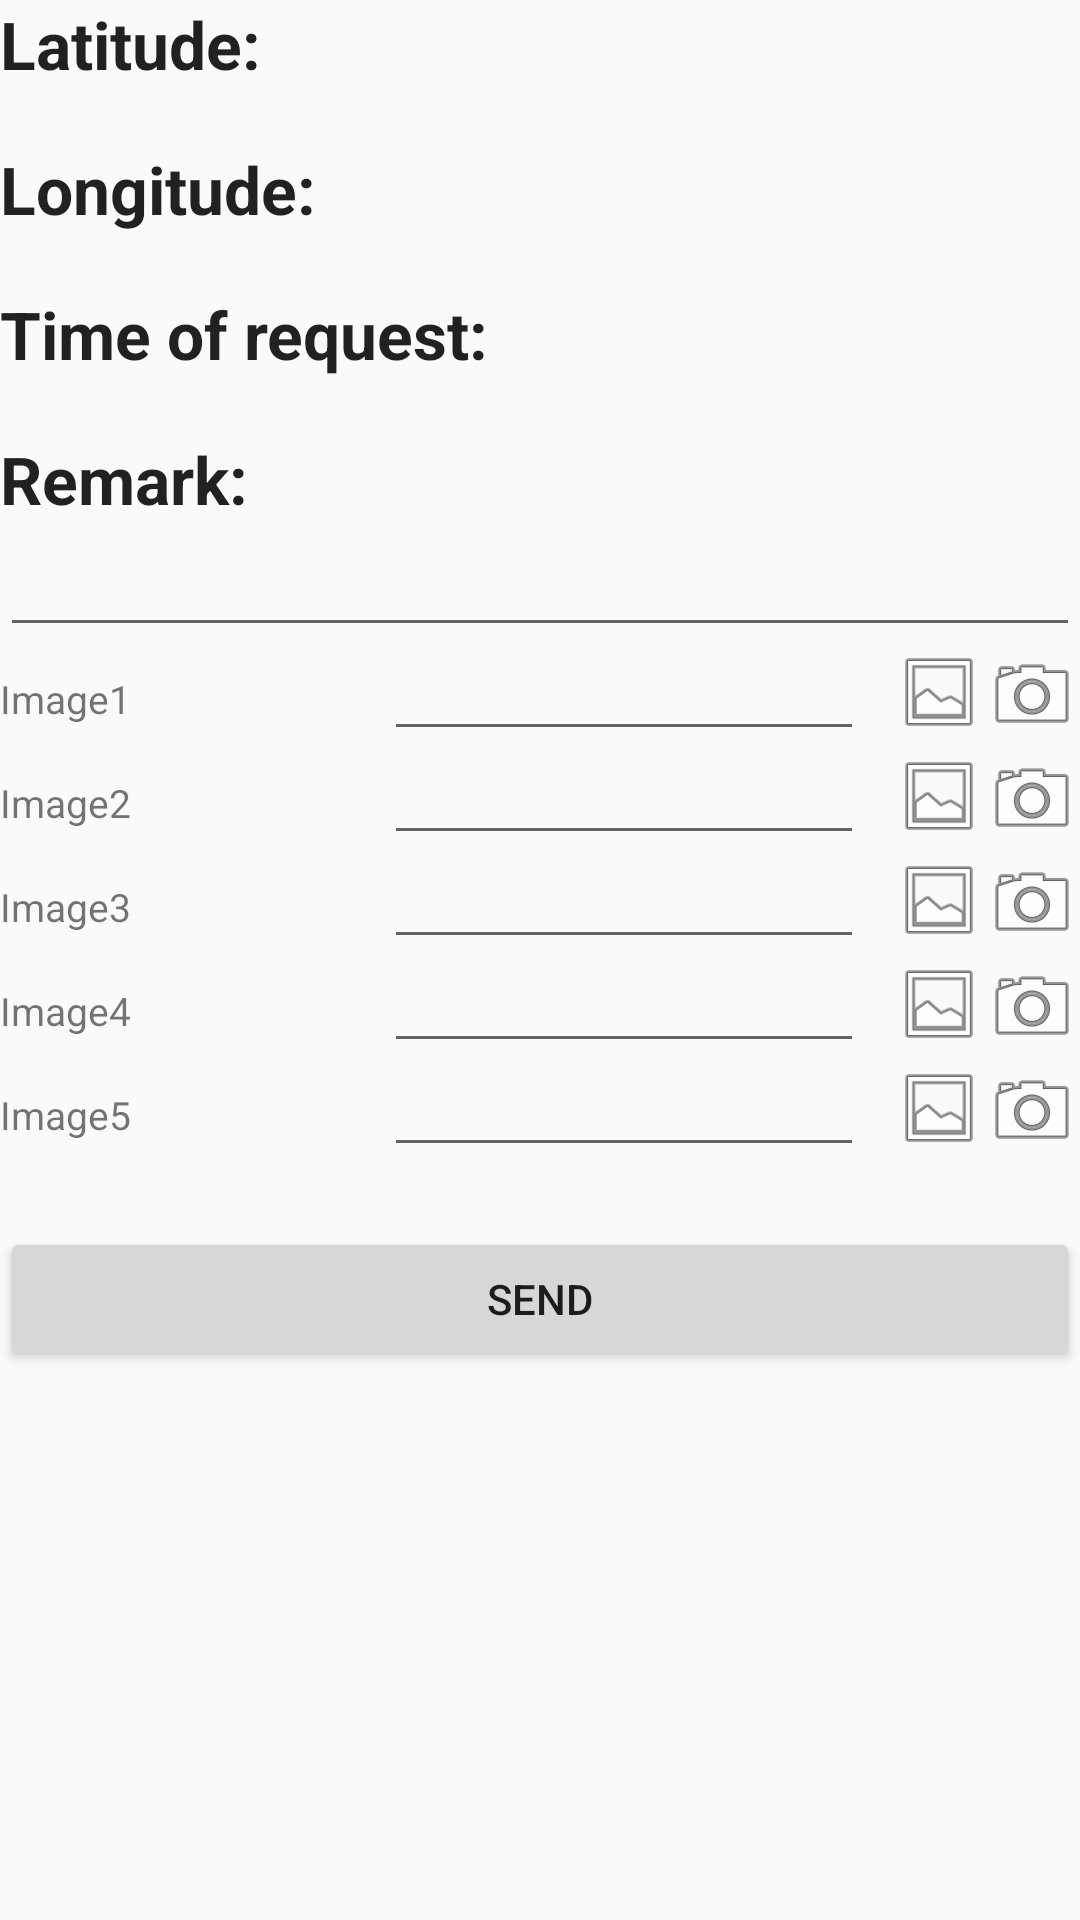

Icon bounding boxes for this 1080 × 1920 phone screenshot, format [x1,y1,x2,y2]:
camera: [995,664,1069,723], [995,768,1069,827], [995,872,1069,931], [995,976,1069,1035], [995,1080,1069,1139]
gallery: [905,658,973,726], [905,762,973,830], [905,866,973,934], [905,970,973,1038], [905,1074,973,1142]
